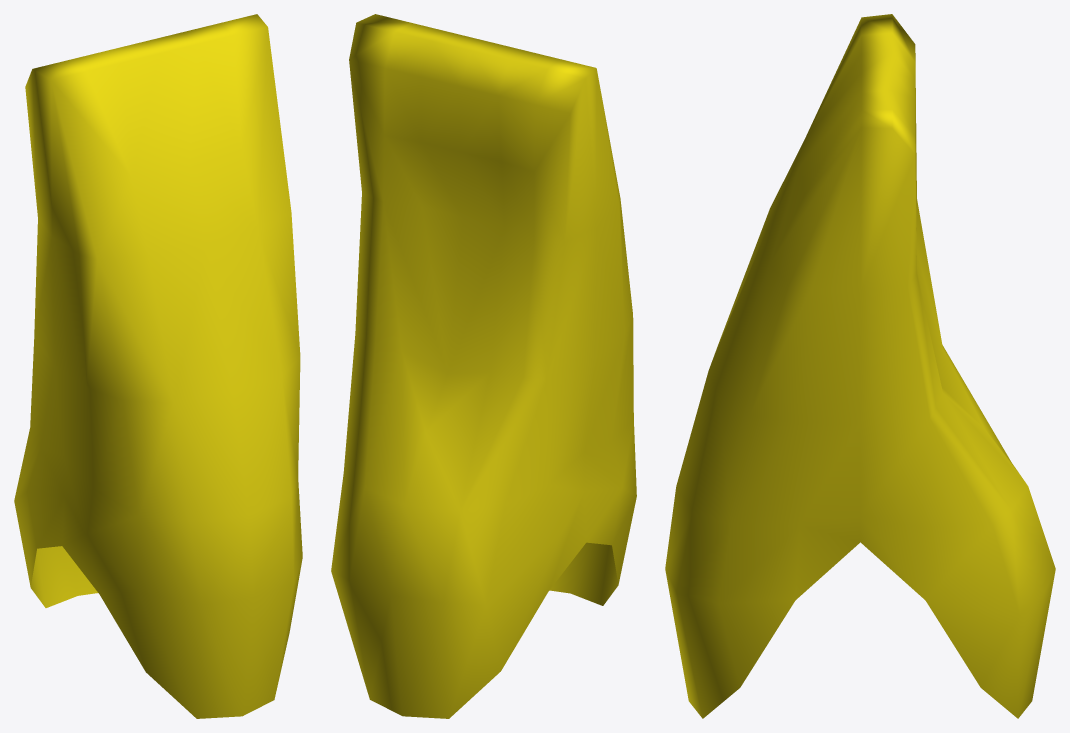
File: D41N_NUC.obj
3 renders of one model, left to right at view 1: azimuth 30°, elevation 25°; view 2: azimuth 150°, elevation 25°; view 3: azimuth 270°, elevation 25°, orthographic. The views are drawn at different scales.
Visible parts, largest first — view 1: D41N_NUC; view 2: D41N_NUC; view 3: D41N_NUC.
Part boxes in pixels (bbox=[...]): D41N_NUC: bbox=[14, 14, 302, 718]; D41N_NUC: bbox=[331, 14, 636, 718]; D41N_NUC: bbox=[665, 14, 1055, 718].
Size of the model in its own units: 2.78 by 7.12 by 4.
